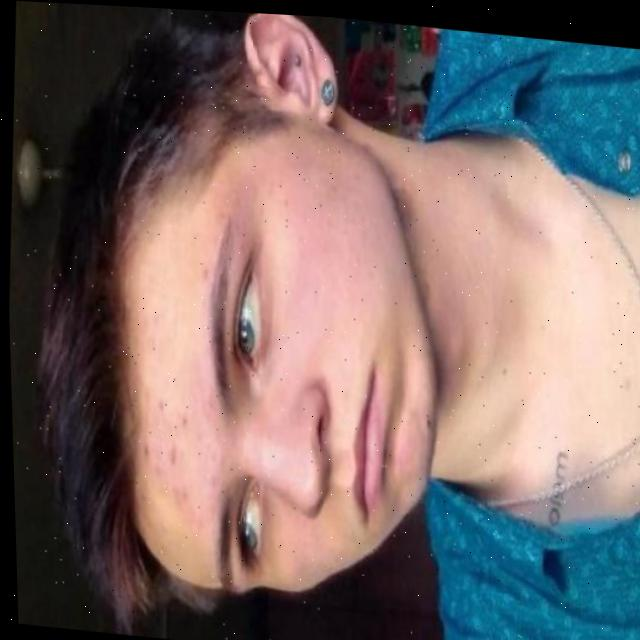Acne: (133, 376, 210, 514)
